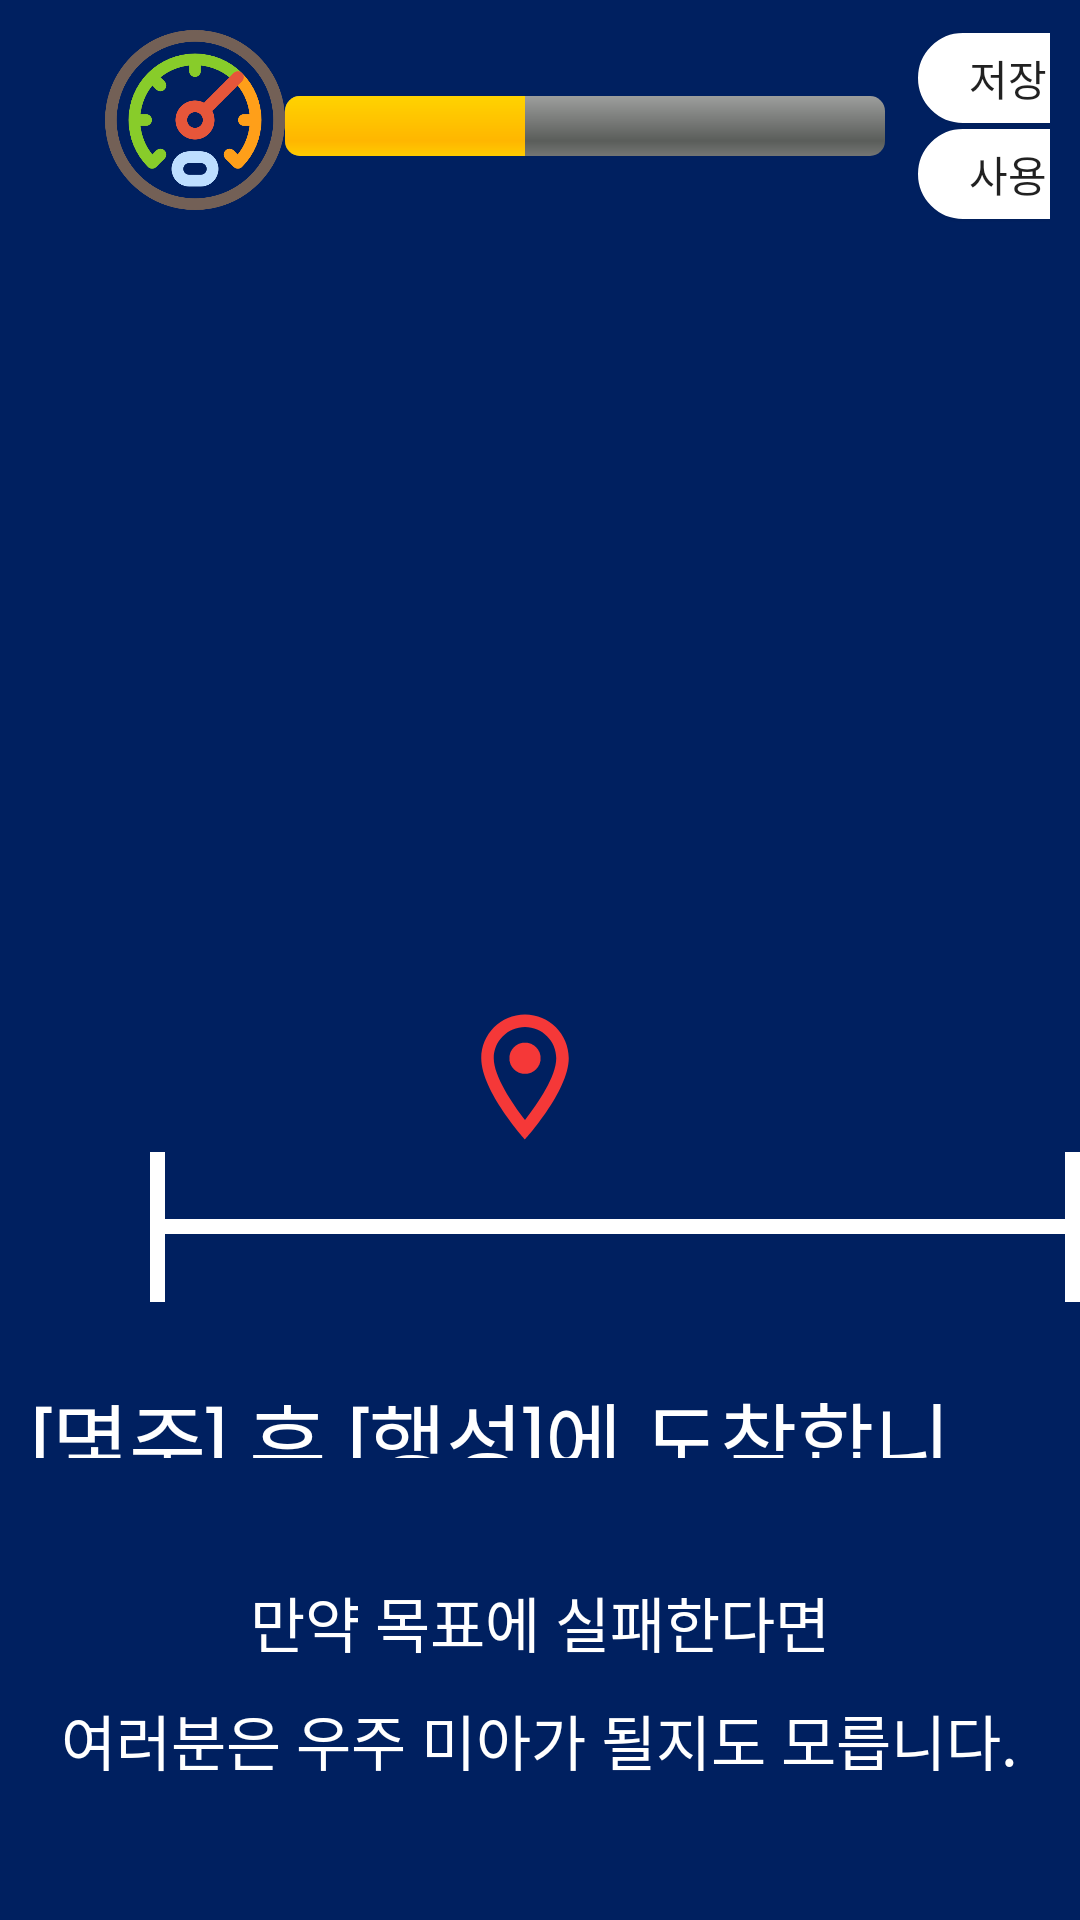

Where icons sit on this 1080px×1920px app screen, as (x1, y1, x2, y2):
gauge: (128, 53, 262, 187)
location on: (481, 1014, 569, 1140)
